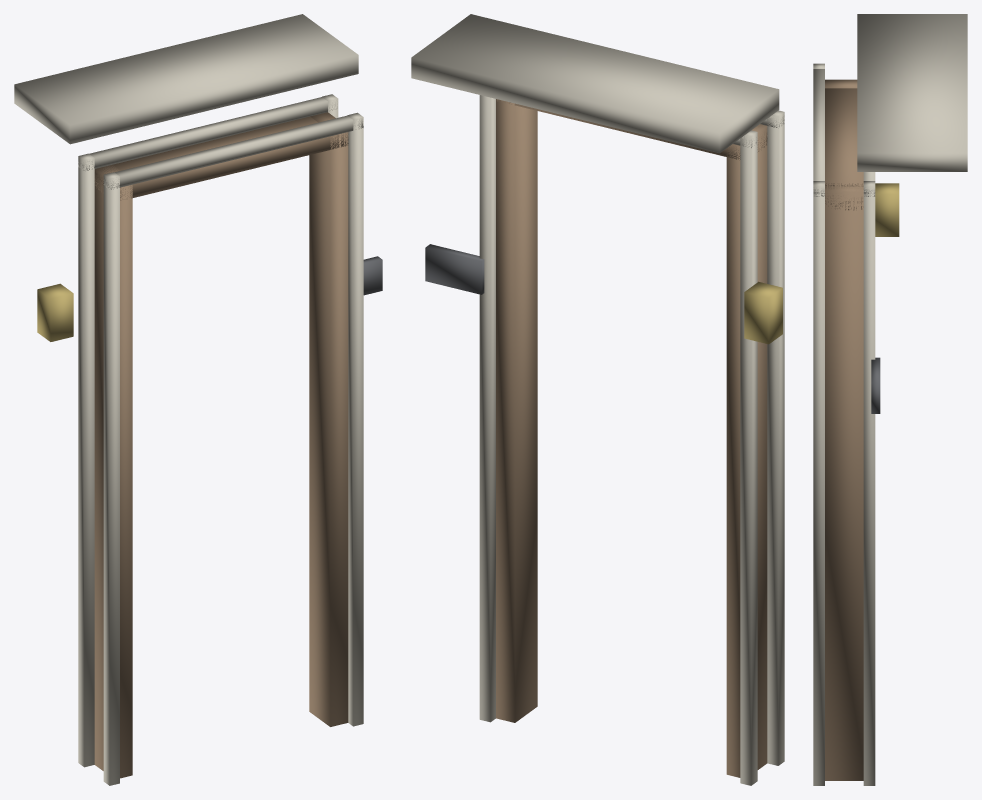
Rendered from doorway_motel_w86_h240_d16.glb.
3 views of the same model, side by side, from view 1: azimuth 30°, elevation 25°; view 2: azimuth 150°, elevation 25°; view 3: azimuth 270°, elevation 25° (orthographic). The views are drawn at different scales.
Parts seen in each view (by area): view 1: world; view 2: world; view 3: world.
Part boxes in pixels (x1,y1,x2,y2): world: [14, 14, 382, 785]; world: [411, 14, 784, 785]; world: [813, 14, 967, 785].
Size of the model in its own units: 1.44 by 2.7 by 0.5882.
